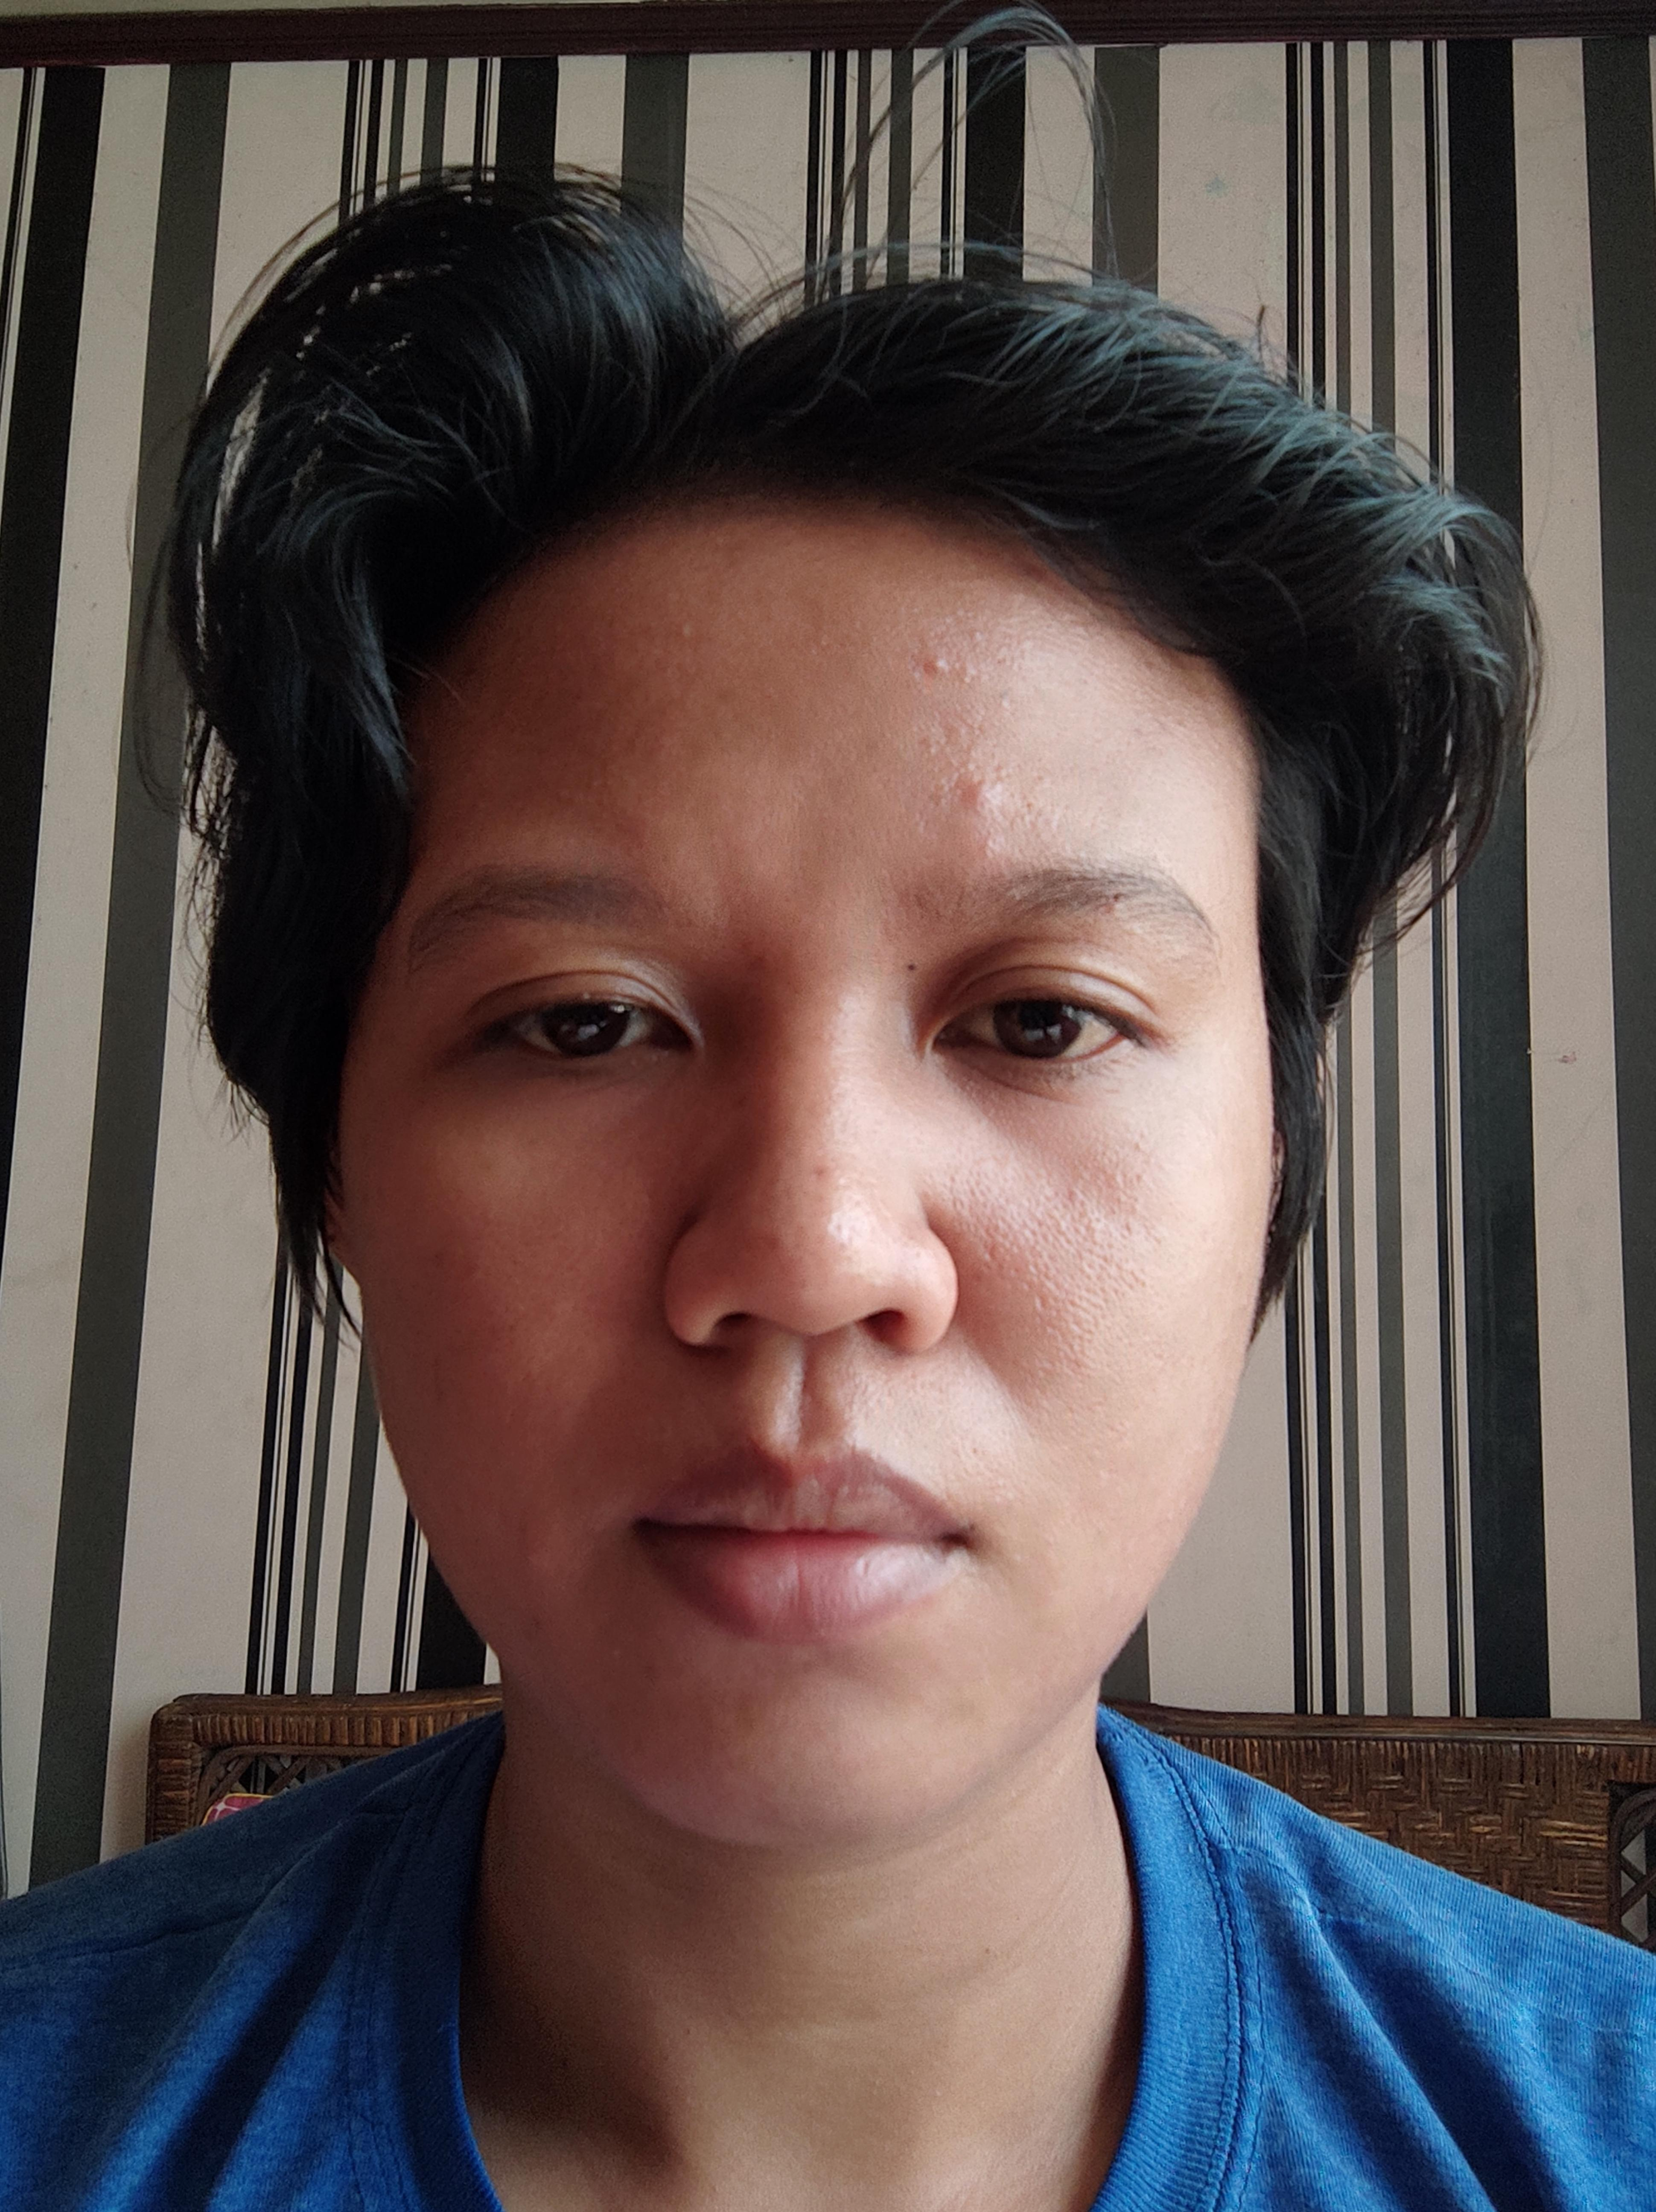Acne: (971, 817, 1063, 864), (925, 650, 990, 692), (957, 770, 1009, 817), (915, 777, 962, 828), (985, 685, 1021, 737), (948, 609, 992, 649), (917, 725, 943, 760), (675, 610, 701, 638)
Englarged-Pores: (976, 1167, 1179, 1395), (774, 1184, 885, 1278)
